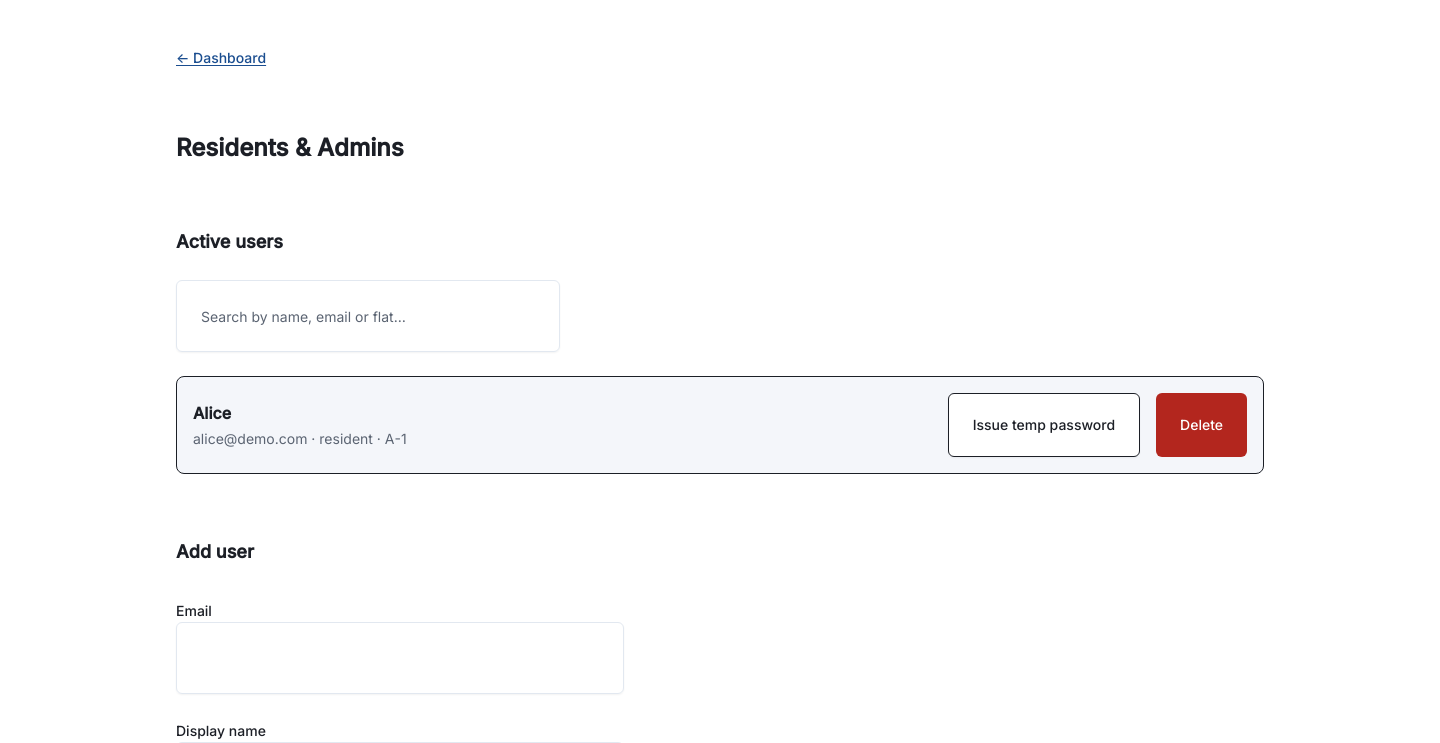
Scenario: TenantUsers › Delete button opens ConfirmDialog with a type-to-confirm text input
Step 1. Click the button "Delete" → [1202, 425], box [1156,393,1247,457]
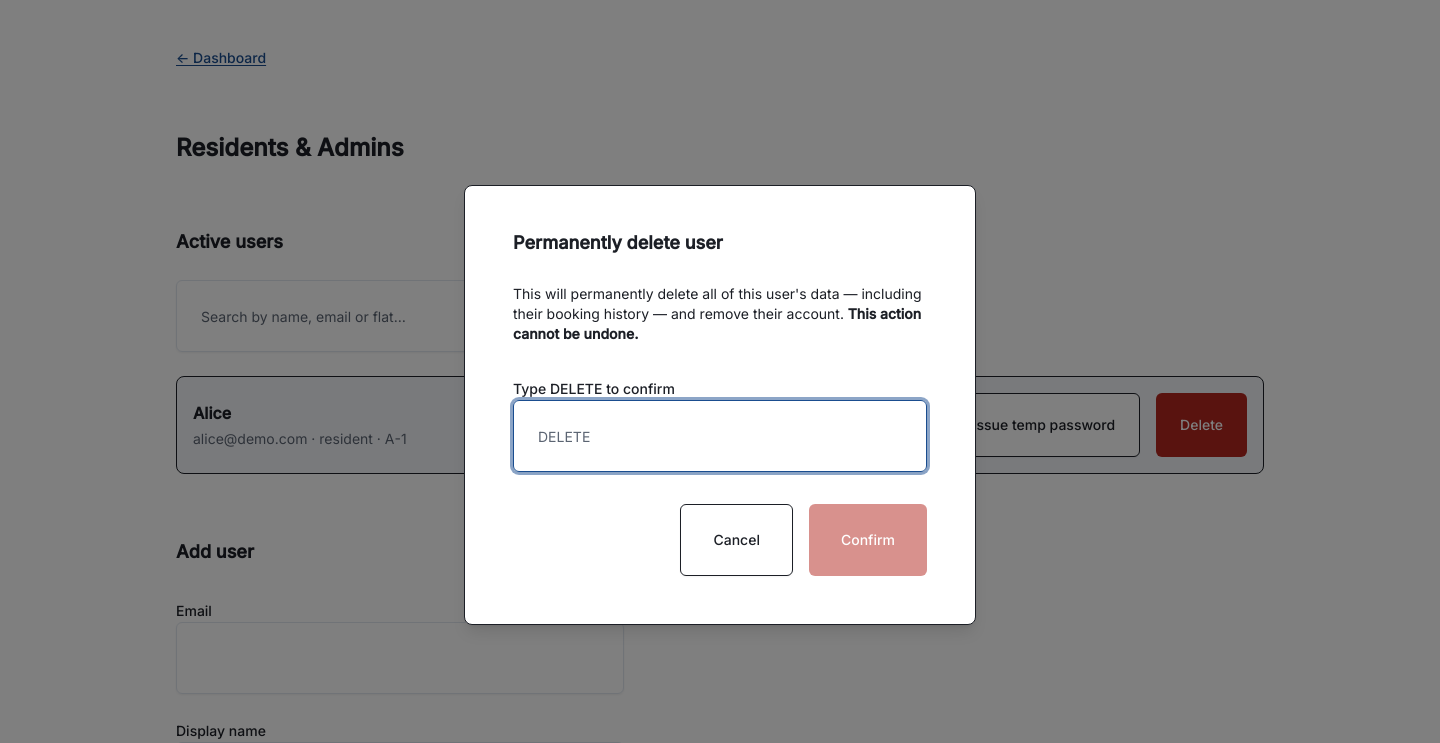
Check: the field with placeholder "DELETE" is shown, box [513,400,927,472]
Check: the text "Type DELETE to confirm" is shown, box [513,380,675,397]
